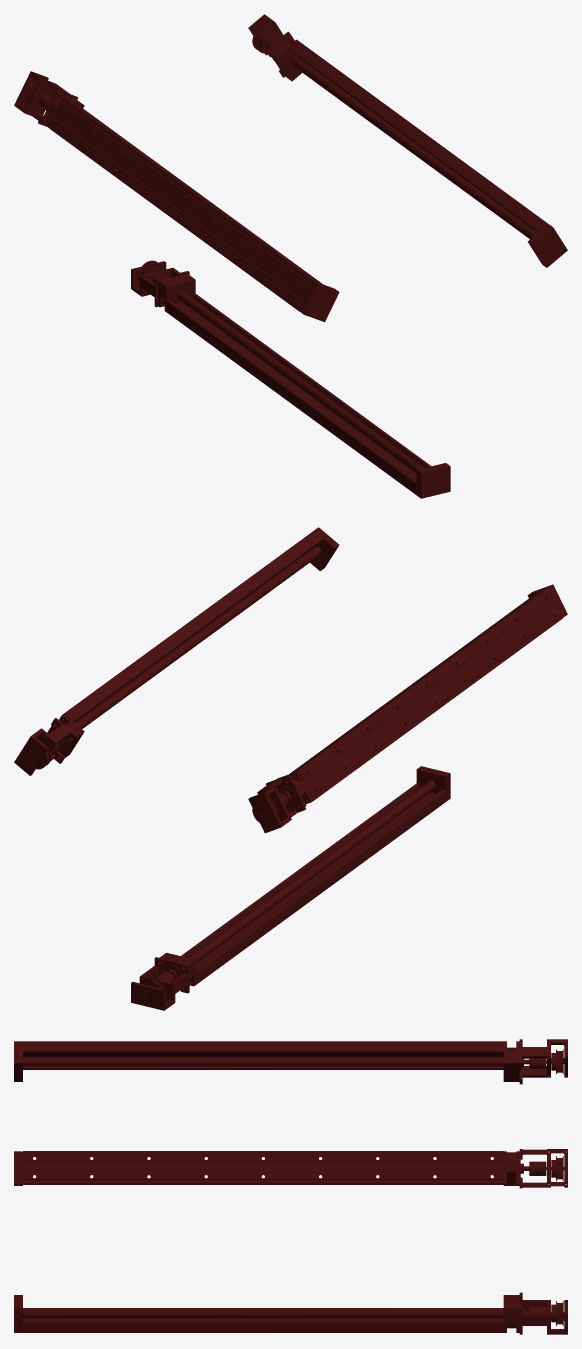
The picture shows the model from 3 angles, top to bottom: view 1: azimuth 30°, elevation 25°; view 2: azimuth 150°, elevation 25°; view 3: azimuth 270°, elevation 25°; orthographic projection. The views are drawn at different scales.
Visible parts, largest first — view 1: /ambf/env/Base_Base; view 2: /ambf/env/Base_Base; view 3: /ambf/env/Base_Base.
Part boxes in pixels (x1,y1,x2,y2): /ambf/env/Base_Base: [14, 14, 567, 498]; /ambf/env/Base_Base: [14, 527, 567, 1010]; /ambf/env/Base_Base: [14, 1039, 567, 1334].
Bounding box in the file's own units: 0.5181 × 0.4487 × 0.9685.
